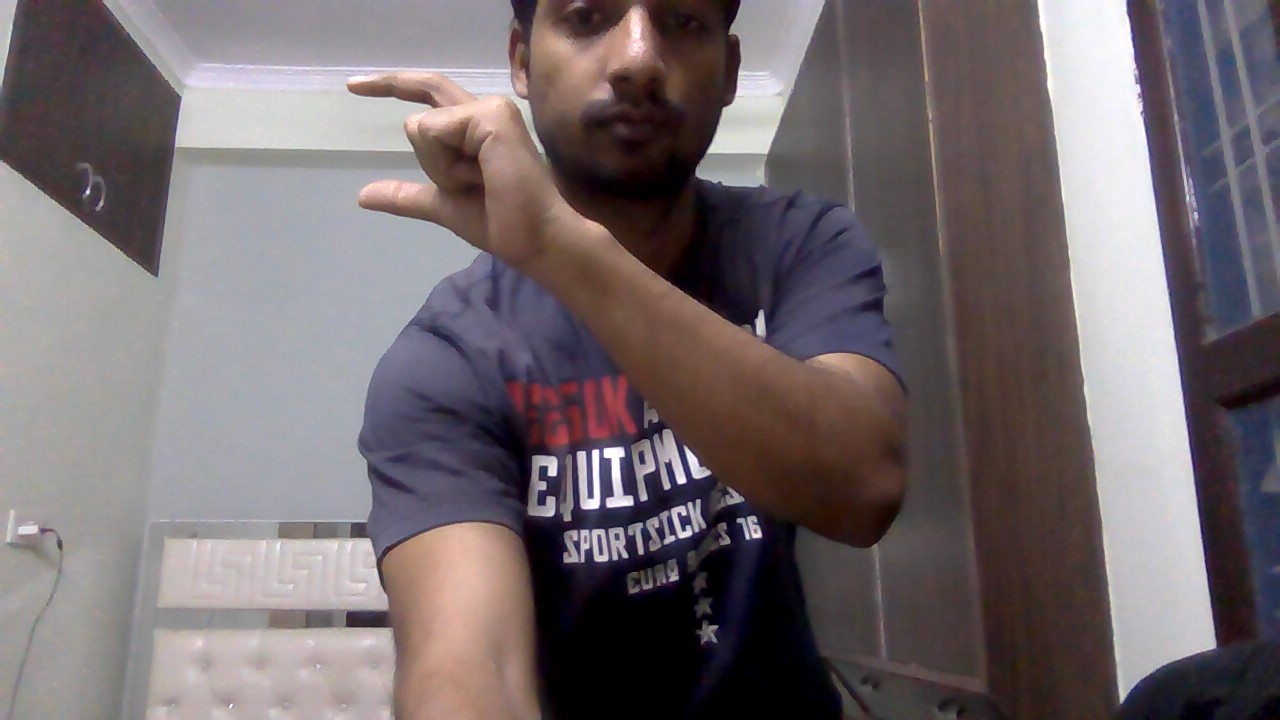Paste: (332, 58, 574, 279)
